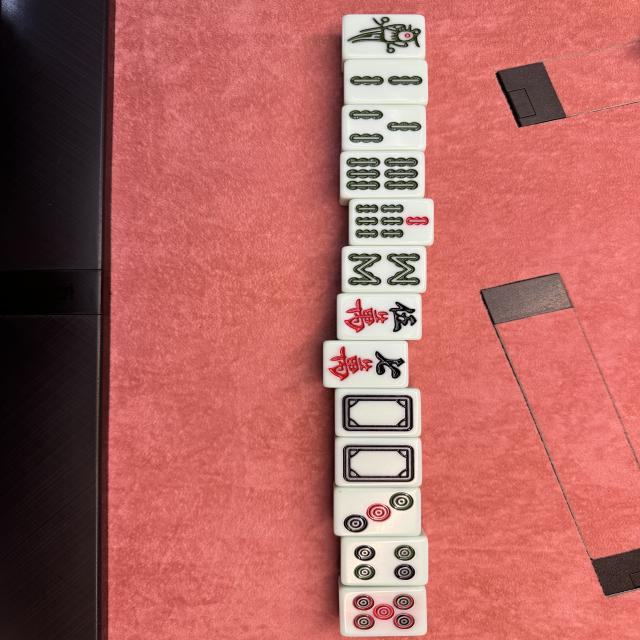sd1: (335, 437, 423, 486), (334, 388, 420, 438), (340, 586, 426, 636), (341, 537, 428, 586), (334, 488, 421, 535), (323, 341, 408, 388), (349, 198, 434, 244), (340, 152, 424, 198), (342, 104, 425, 150), (342, 246, 425, 292), (338, 294, 422, 338), (342, 14, 426, 57), (342, 59, 426, 102)
